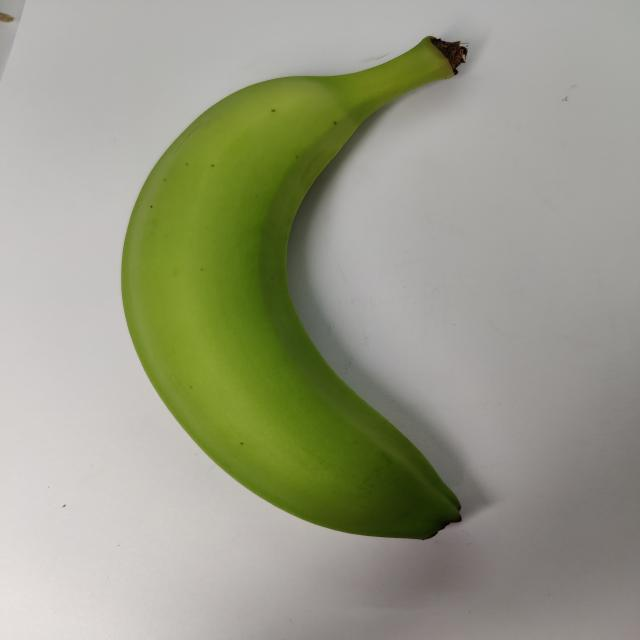raw: (92, 9, 504, 556)
